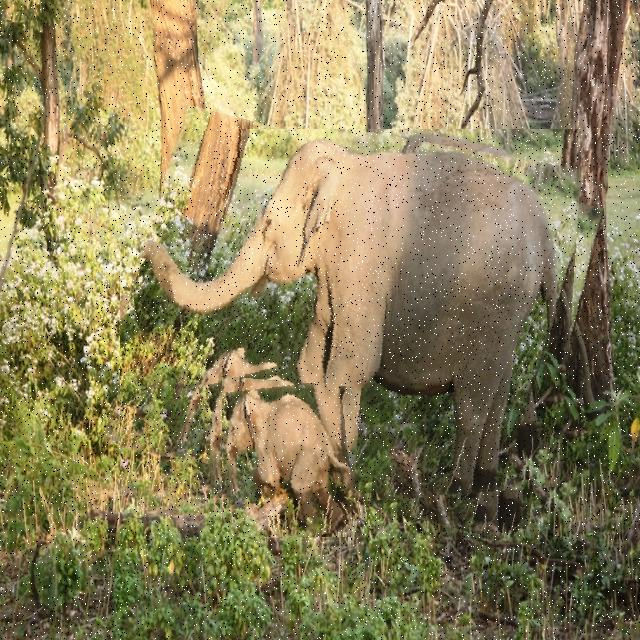elephant: (120, 129, 586, 521), (222, 376, 361, 537)
